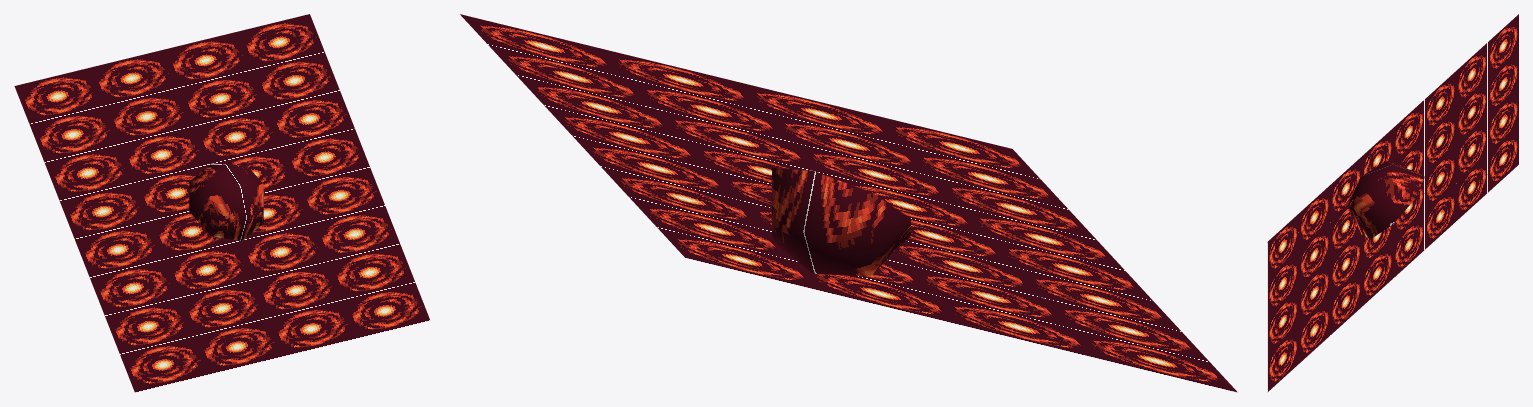
File: 3277IMIG05_03.gltf
3 views of the same model, side by side, from view 1: azimuth 30°, elevation 25°; view 2: azimuth 150°, elevation 25°; view 3: azimuth 270°, elevation 25° (orthographic). The views are drawn at different scales.
Visible parts, largest first — view 1: 3277IMIG05_03; view 2: 3277IMIG05_03; view 3: 3277IMIG05_03.
Boxes of the visible parts, <box> form: 3277IMIG05_03: <box>14,14,430,392</box>; 3277IMIG05_03: <box>460,14,1237,392</box>; 3277IMIG05_03: <box>1267,14,1518,392</box>.
Size of the model in its own units: 1.76 by 1.25 by 1.25.
Materials: 1 (1 with a texture image).
